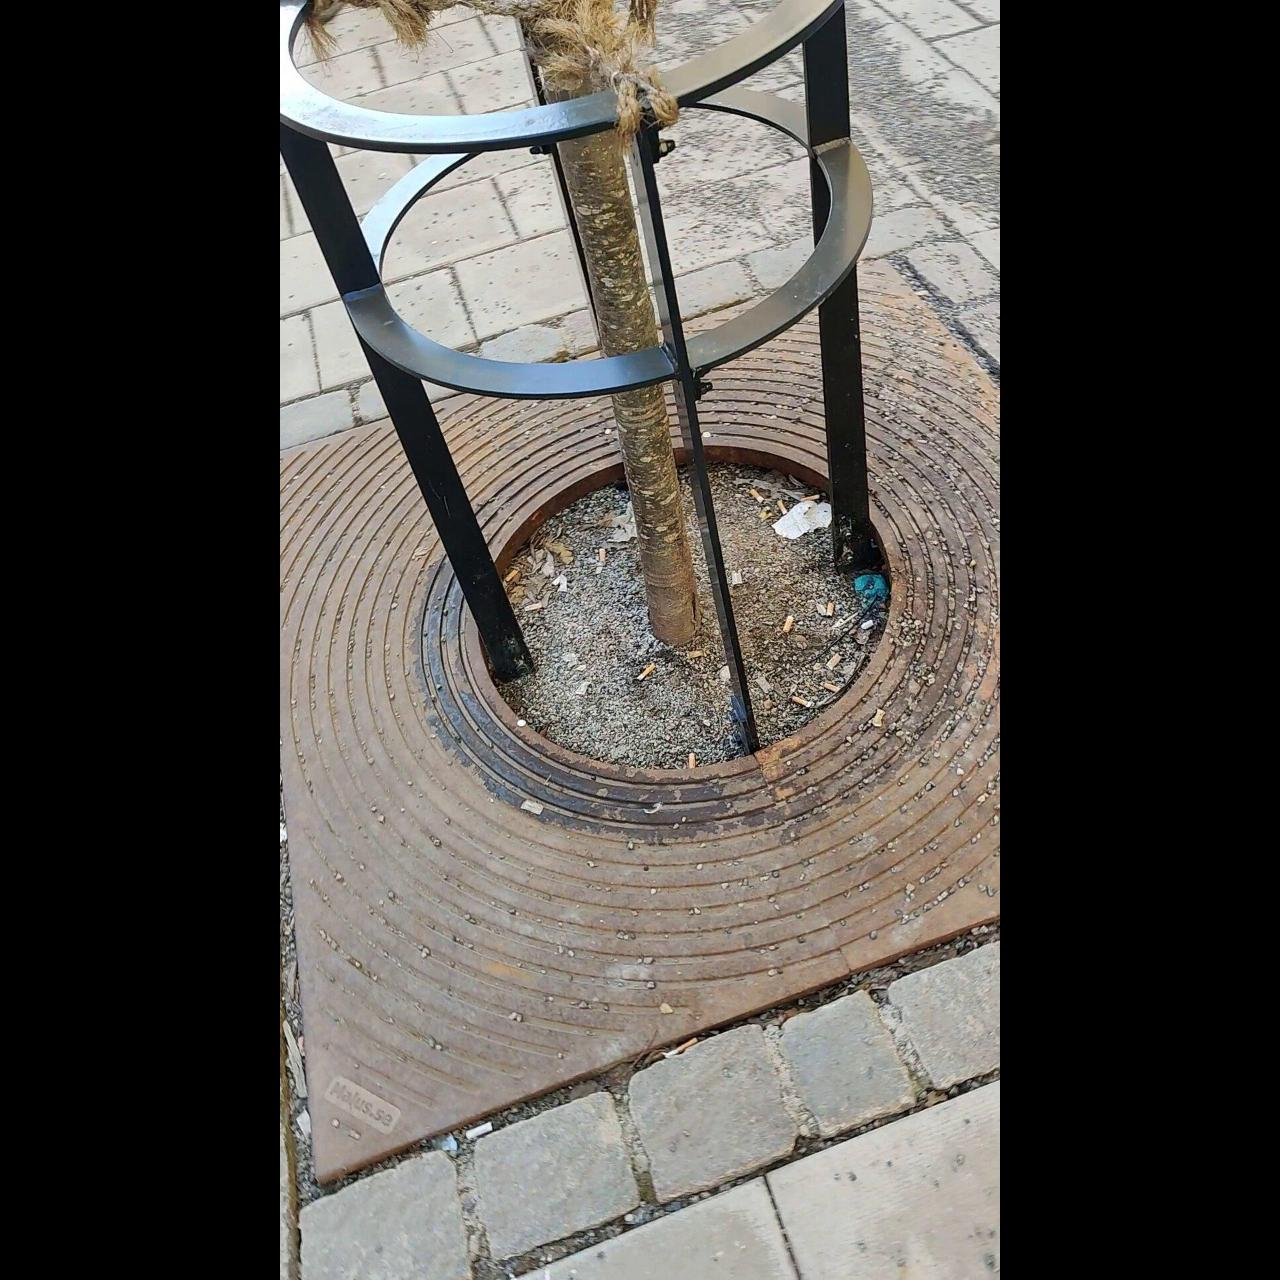cigarettes_butts: (663, 1034, 694, 1058), (787, 694, 816, 708), (636, 663, 654, 683), (826, 653, 840, 673), (826, 682, 844, 696), (686, 751, 697, 771), (502, 568, 518, 583), (799, 493, 821, 503), (750, 489, 764, 502), (524, 602, 542, 612), (688, 646, 700, 660), (598, 550, 606, 566), (783, 618, 791, 633), (778, 498, 788, 511), (828, 601, 835, 617)
others: (467, 1121, 493, 1142), (519, 796, 543, 815), (871, 709, 883, 727), (731, 571, 742, 587), (860, 619, 873, 631)
